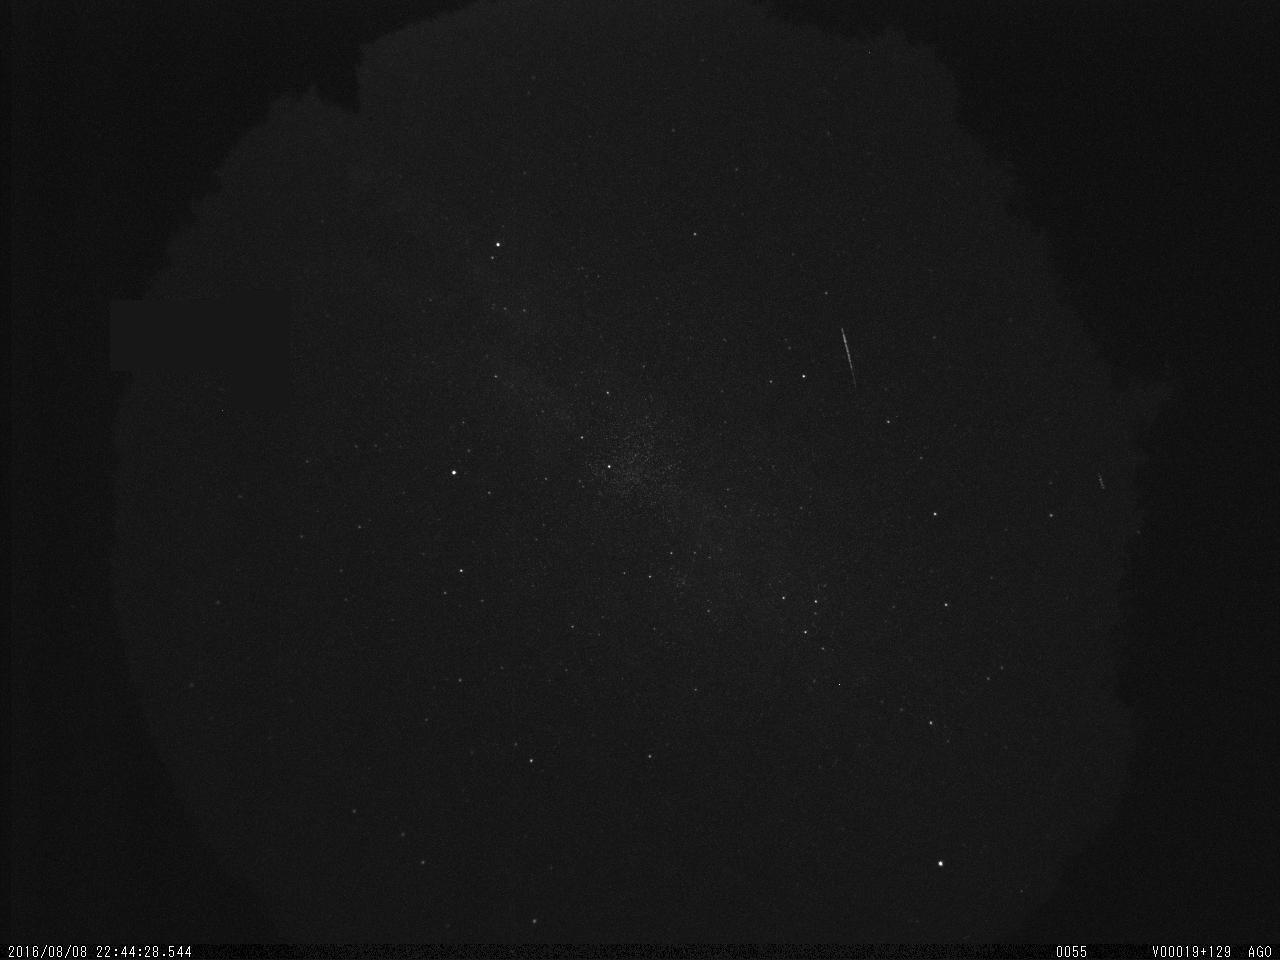meteor: (817, 311, 901, 400)
